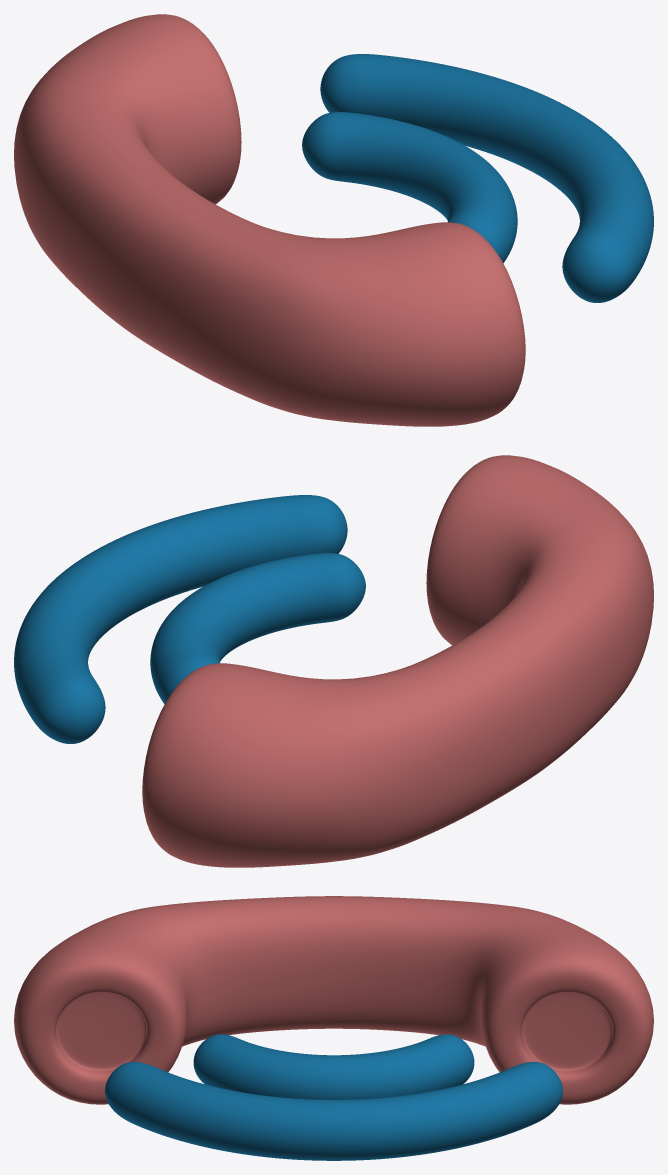
The model's file is phone.fbx.
3 views of the same model, one above another, from view 1: azimuth 30°, elevation 25°; view 2: azimuth 150°, elevation 25°; view 3: azimuth 270°, elevation 25° (orthographic). The views are drawn at different scales.
Visible parts, largest first — view 1: Phone Ring; view 2: Phone Ring; view 3: Phone Ring.
Boxes of the visible parts, x1,y1,x2,y2 form: Phone Ring: (14,14,653,426); Phone Ring: (14,455,653,867); Phone Ring: (14,896,653,1160).
Bounding box in the file's own units: 186 × 64.74 × 250.
